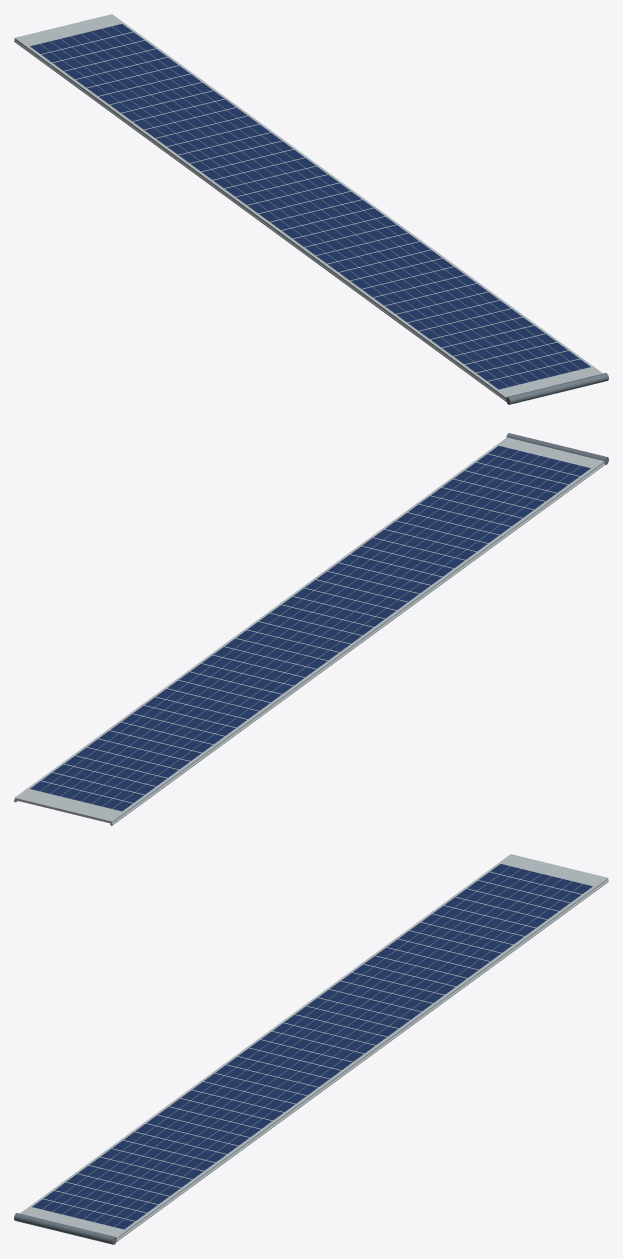
The model's file is dart_rosa_r.deployment.blanket.glb.
The picture shows the model from 3 angles, top to bottom: view 1: azimuth 30°, elevation 25°; view 2: azimuth 150°, elevation 25°; view 3: azimuth 330°, elevation 25°; orthographic projection.
Parts seen in each view (by area): view 1: dart_rosa_r.deployment.blanket.cells.mesh_Indigo_solar_cells, dart_rosa_r.deployment.blanket.cells.mesh_Satin_aluminum, dart_rosa_r.deployment.blanket.mesh_Satin_aluminum, dart_rosa_r.deployment.blanket.mesh_Machined_steel; view 2: dart_rosa_r.deployment.blanket.cells.mesh_Indigo_solar_cells, dart_rosa_r.deployment.blanket.cells.mesh_Satin_aluminum, dart_rosa_r.deployment.blanket.mesh_Satin_aluminum, dart_rosa_r.deployment.blanket.mesh_Machined_steel; view 3: dart_rosa_r.deployment.blanket.cells.mesh_Indigo_solar_cells, dart_rosa_r.deployment.blanket.cells.mesh_Satin_aluminum, dart_rosa_r.deployment.blanket.mesh_Satin_aluminum, dart_rosa_r.deployment.blanket.mesh_Machined_steel.
Boxes of the visible parts, bbox=[...] form: dart_rosa_r.deployment.blanket.cells.mesh_Indigo_solar_cells: bbox=[30, 24, 590, 389]; dart_rosa_r.deployment.blanket.cells.mesh_Satin_aluminum: bbox=[14, 14, 602, 399]; dart_rosa_r.deployment.blanket.mesh_Satin_aluminum: bbox=[14, 40, 506, 401]; dart_rosa_r.deployment.blanket.mesh_Machined_steel: bbox=[506, 373, 608, 404]; dart_rosa_r.deployment.blanket.cells.mesh_Indigo_solar_cells: bbox=[30, 446, 590, 811]; dart_rosa_r.deployment.blanket.cells.mesh_Satin_aluminum: bbox=[14, 437, 604, 823]; dart_rosa_r.deployment.blanket.mesh_Satin_aluminum: bbox=[14, 463, 605, 825]; dart_rosa_r.deployment.blanket.mesh_Machined_steel: bbox=[506, 433, 608, 464]; dart_rosa_r.deployment.blanket.cells.mesh_Indigo_solar_cells: bbox=[32, 864, 592, 1229]; dart_rosa_r.deployment.blanket.cells.mesh_Satin_aluminum: bbox=[20, 854, 608, 1239]; dart_rosa_r.deployment.blanket.mesh_Satin_aluminum: bbox=[116, 880, 608, 1241]; dart_rosa_r.deployment.blanket.mesh_Machined_steel: bbox=[14, 1213, 116, 1244].
Bounding box in the file's own units: 0.92 × 0.066 × 8.01.
